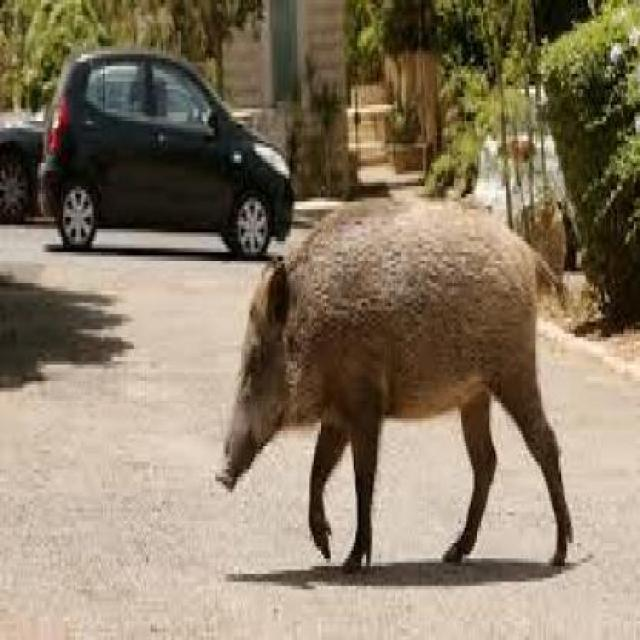wildboar: (212, 188, 576, 574)
